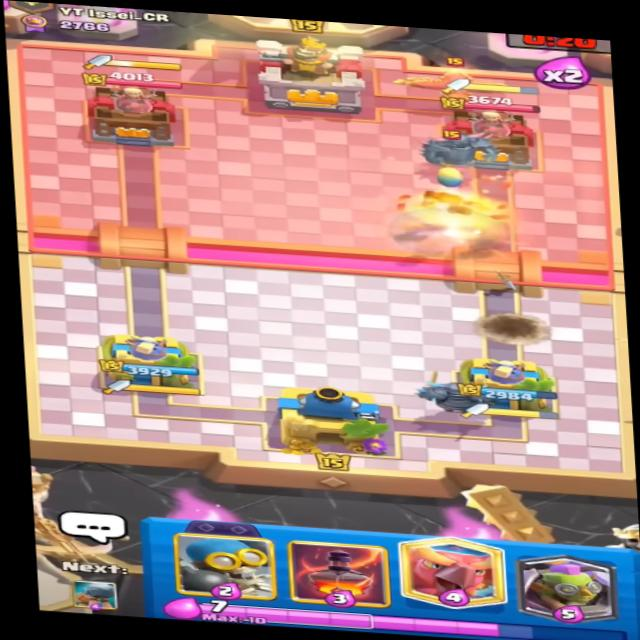pekka: (406, 113, 500, 174)
phoenix: (392, 50, 532, 111)
